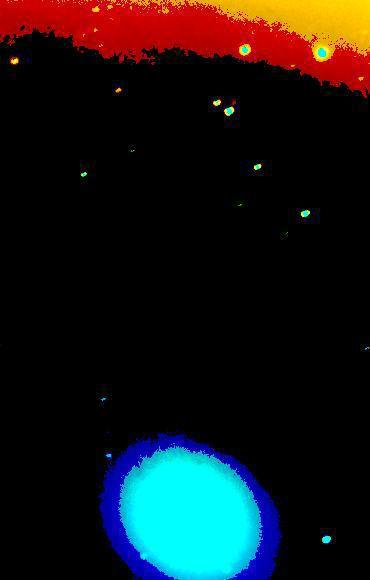star: (218, 87, 248, 117)
